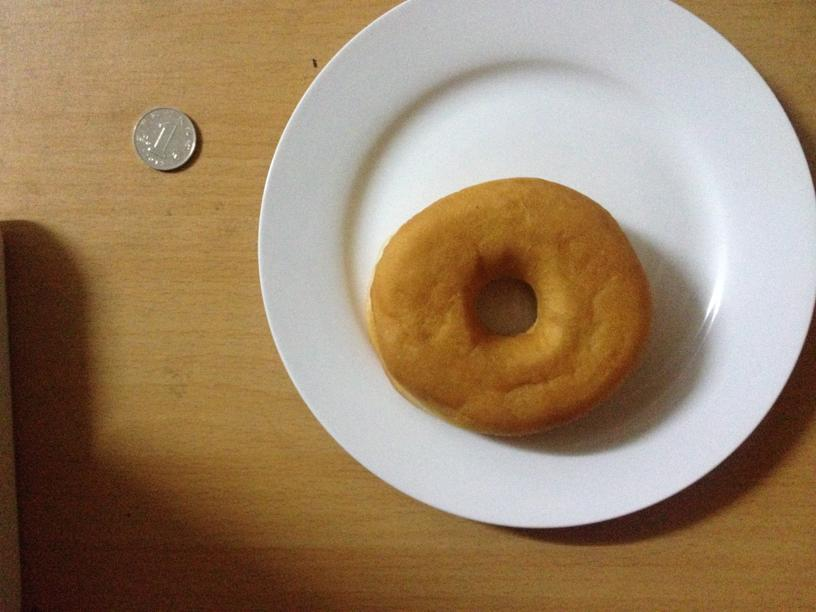coin: (133, 108, 196, 171)
doughnut: (368, 178, 650, 436)
